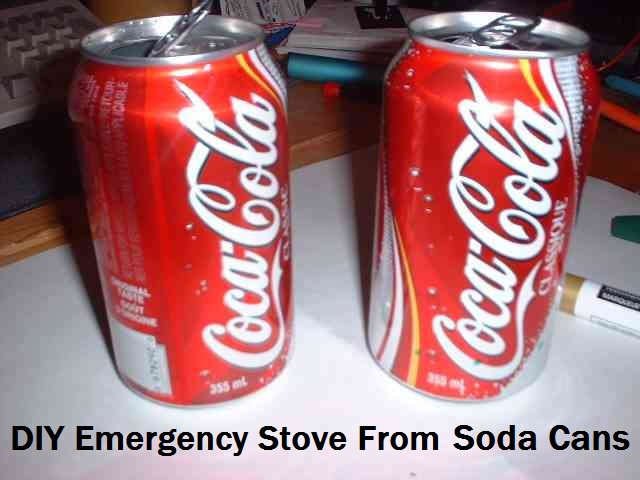can: (62, 7, 326, 415), (355, 13, 613, 411)
